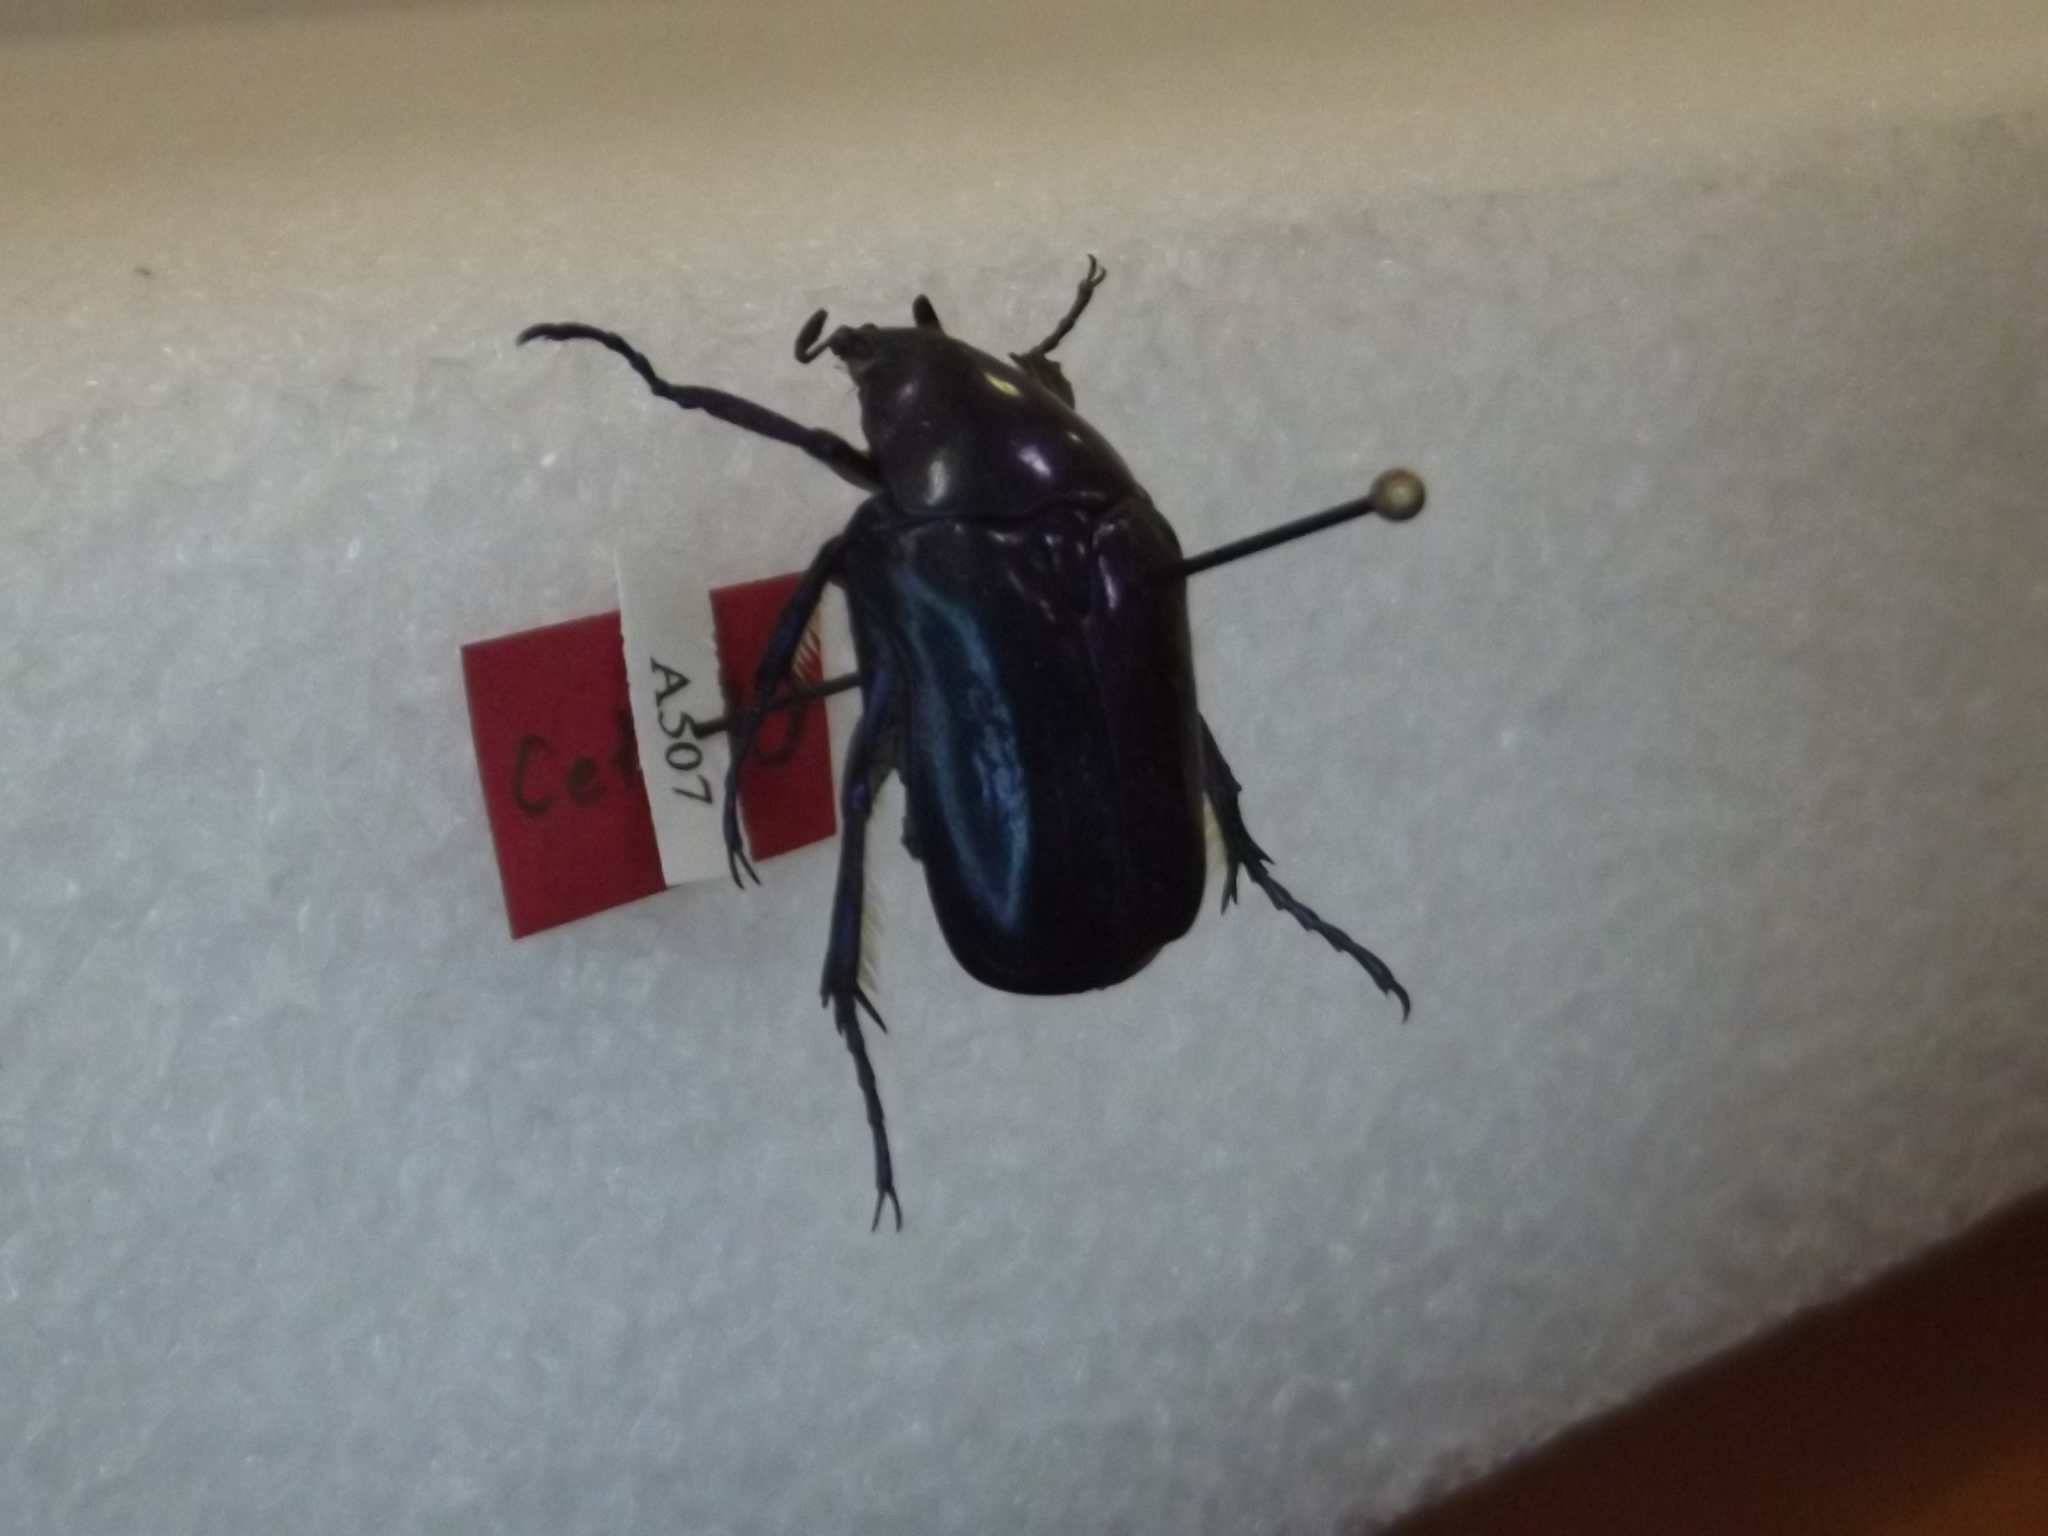Protaetia_besucheti: (497, 240, 1448, 1241)
